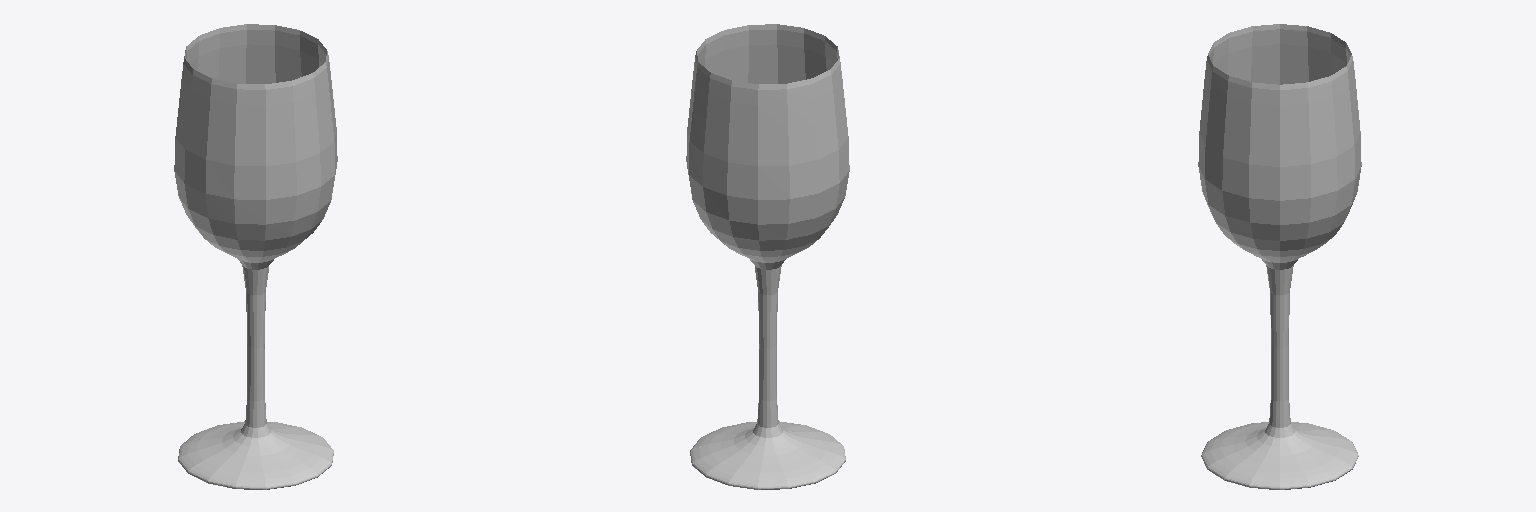
The model's file is glass.obj.
3 renders of one model, left to right at view 1: azimuth 30°, elevation 25°; view 2: azimuth 150°, elevation 25°; view 3: azimuth 270°, elevation 25°, orthographic.
Visible parts, largest first — view 1: glass:polySurface2WineFBXASC045GlassesFBXASC045Right glass:polyS; view 2: glass:polySurface2WineFBXASC045GlassesFBXASC045Right glass:polyS; view 3: glass:polySurface2WineFBXASC045GlassesFBXASC045Right glass:polyS.
Boxes of the visible parts, x1=… form: glass:polySurface2WineFBXASC045GlassesFBXASC045Right glass:polyS: x1=174, y1=24, x2=337, y2=489; glass:polySurface2WineFBXASC045GlassesFBXASC045Right glass:polyS: x1=686, y1=24, x2=849, y2=489; glass:polySurface2WineFBXASC045GlassesFBXASC045Right glass:polyS: x1=1198, y1=24, x2=1361, y2=489.
Size of the model in its own units: 8.75 by 23.55 by 8.64.